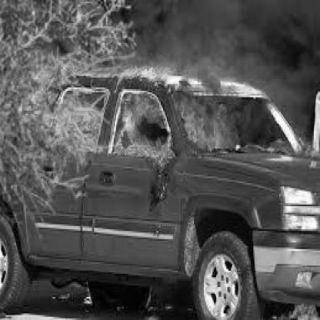Fire: (21, 65, 318, 163), (272, 293, 316, 317)
